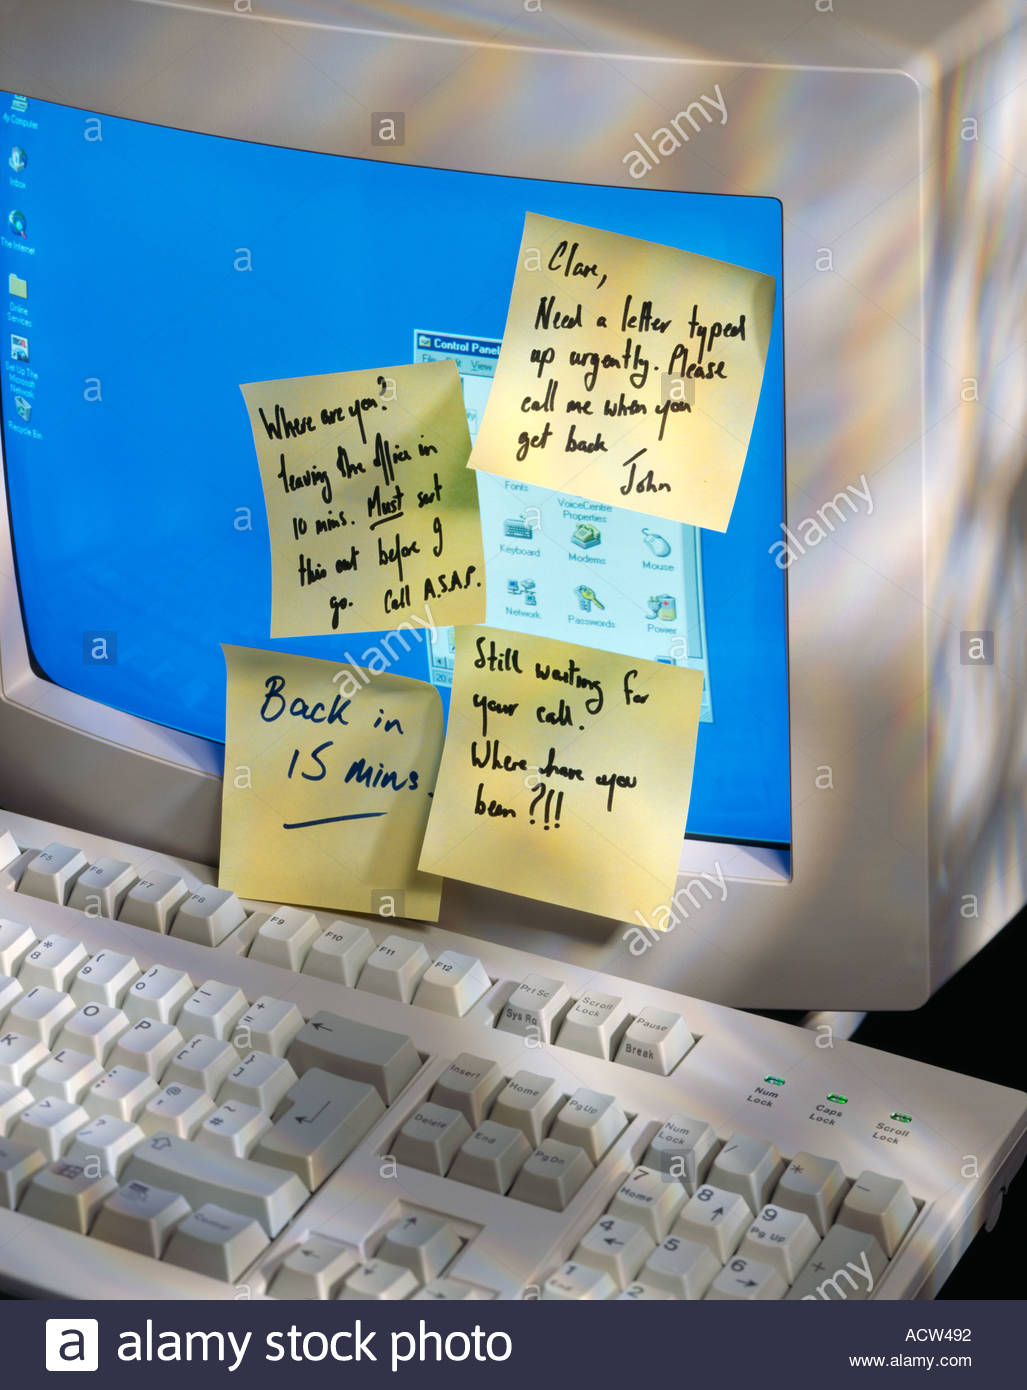Note: (465, 206, 770, 533), (421, 621, 709, 938), (243, 362, 492, 635), (221, 648, 443, 940)
